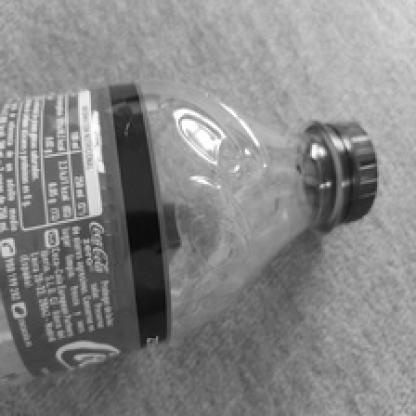plastic_bottles: (2, 84, 384, 388)
